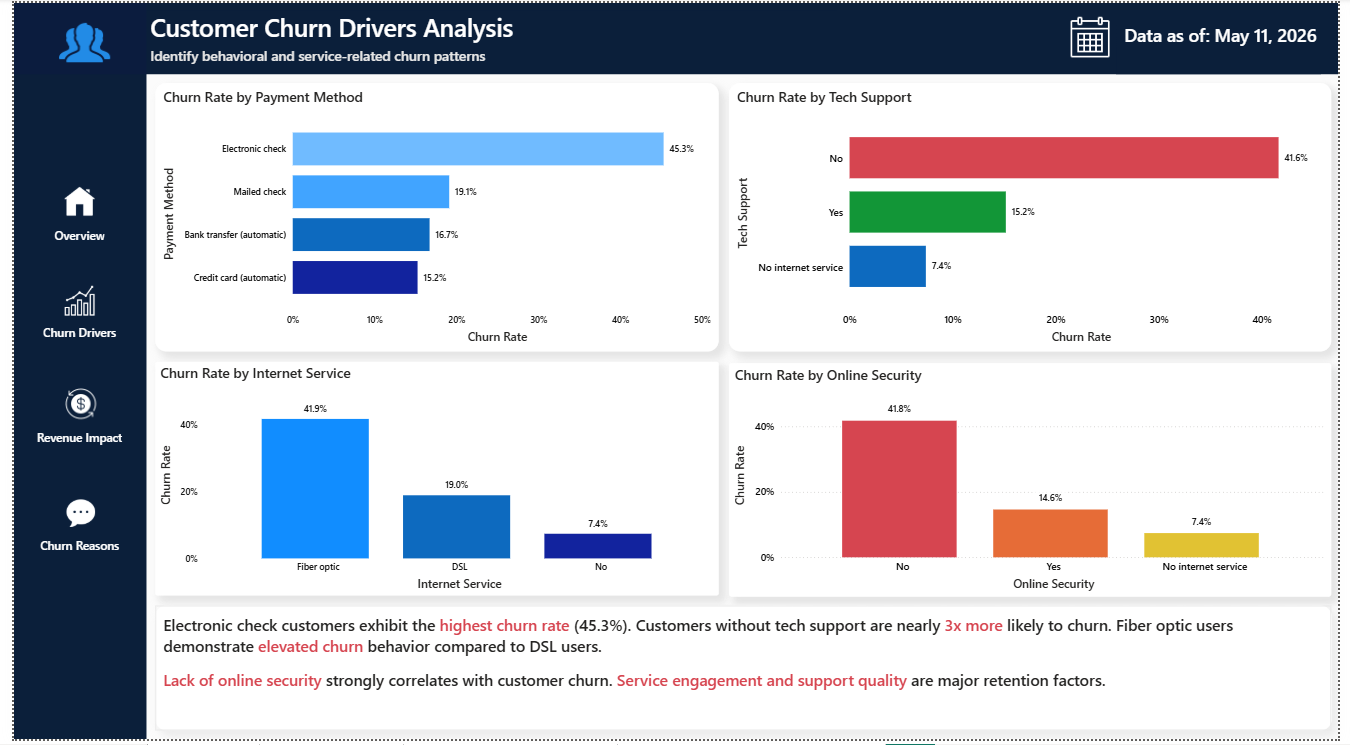

What the dashboard file says about the page in this screenshot:
{"tool":"powerbi","page":{"name":"Churn Drivers","canvas":[1800,1000],"ordinal":1},"visuals":[{"type":"shape","box":[0,0,1800.3,96.8],"z":0},{"type":"textbox","title":" Customer Churn Drivers Analysis","box":[180,10.2,937.5,74.7],"z":1000},{"type":"shape","box":[0,0,180,1000.3],"z":2000},{"type":"textbox","title":"Data as of: May 11, 2026","box":[1498,27.2,276.8,69.6],"z":3000},{"type":"image","box":[1389.3,18.7,146.1,57.7],"z":4000},{"type":"clusteredBarChart","fields":{"Category":["churn_data.Payment Method"],"Y":["churn_data.Churn Rate"]},"box":[191.9,108.7,766,365.2],"z":5000},{"type":"clusteredColumnChart","fields":{"Category":["churn_data.Internet Service"],"Y":["churn_data.Churn Rate"]},"box":[191.9,487.4,766,317.6],"z":6000},{"type":"barChart","fields":{"Y":["churn_data.Churn Rate"],"Category":["churn_data.Tech Support"]},"box":[971.5,108.7,818.6,365.2],"z":7000},{"type":"lineStackedColumnComboChart","fields":{"Category":["churn_data.Online Security"],"Y":["churn_data.Churn Rate"]},"box":[971.5,489.1,818.6,317.6],"z":8000},{"type":"textbox","box":[191.9,818.6,1598.2,169.8],"z":9000},{"type":"actionButton","box":[23.8,225.9,130.8,103.6],"z":10000},{"type":"actionButton","box":[23.8,647.1,130.8,103.6],"z":11000},{"type":"actionButton","box":[23.8,501,130.8,103.6],"z":12000},{"type":"actionButton","box":[23.8,358.4,130.8,103.6],"z":13000},{"type":"image","box":[67.9,210.6,42.5,118.9],"z":14000},{"type":"image","box":[67.9,344.8,42.5,117.2],"z":15000},{"type":"image","box":[69.6,485.7,42.5,117.2],"z":16000},{"type":"image","box":[69.6,633.5,42.5,117.2],"z":17000},{"type":"shape","box":[0,0,180,96.8],"z":18000},{"type":"image","box":[61.1,13.6,69.6,83.2],"z":19000}]}

Visuals, with their boxes on the page's 1800x1000 design canvas (x1, y1, x2, y2). These are canvas units, not pixel positions in the 1350x745 screenshot, which may show the page scaled, cropped or inside an application window:
shape: detection(0, 0, 1800, 97)
" Customer Churn Drivers Analysis" textbox: detection(180, 10, 1118, 85)
shape: detection(0, 0, 180, 1000)
"Data as of: May 11, 2026" textbox: detection(1498, 27, 1775, 97)
image: detection(1389, 19, 1535, 76)
clusteredBarChart - churn_data.Payment Method x churn_data.Churn Rate: detection(192, 109, 958, 474)
clusteredColumnChart - churn_data.Internet Service x churn_data.Churn Rate: detection(192, 487, 958, 805)
barChart - churn_data.Churn Rate x churn_data.Tech Support: detection(972, 109, 1790, 474)
lineStackedColumnComboChart - churn_data.Online Security x churn_data.Churn Rate: detection(972, 489, 1790, 807)
textbox: detection(192, 819, 1790, 988)
actionButton: detection(24, 226, 155, 330)
actionButton: detection(24, 647, 155, 751)
actionButton: detection(24, 501, 155, 605)
actionButton: detection(24, 358, 155, 462)
image: detection(68, 211, 110, 330)
image: detection(68, 345, 110, 462)
image: detection(70, 486, 112, 603)
image: detection(70, 634, 112, 751)
shape: detection(0, 0, 180, 97)
image: detection(61, 14, 131, 97)
